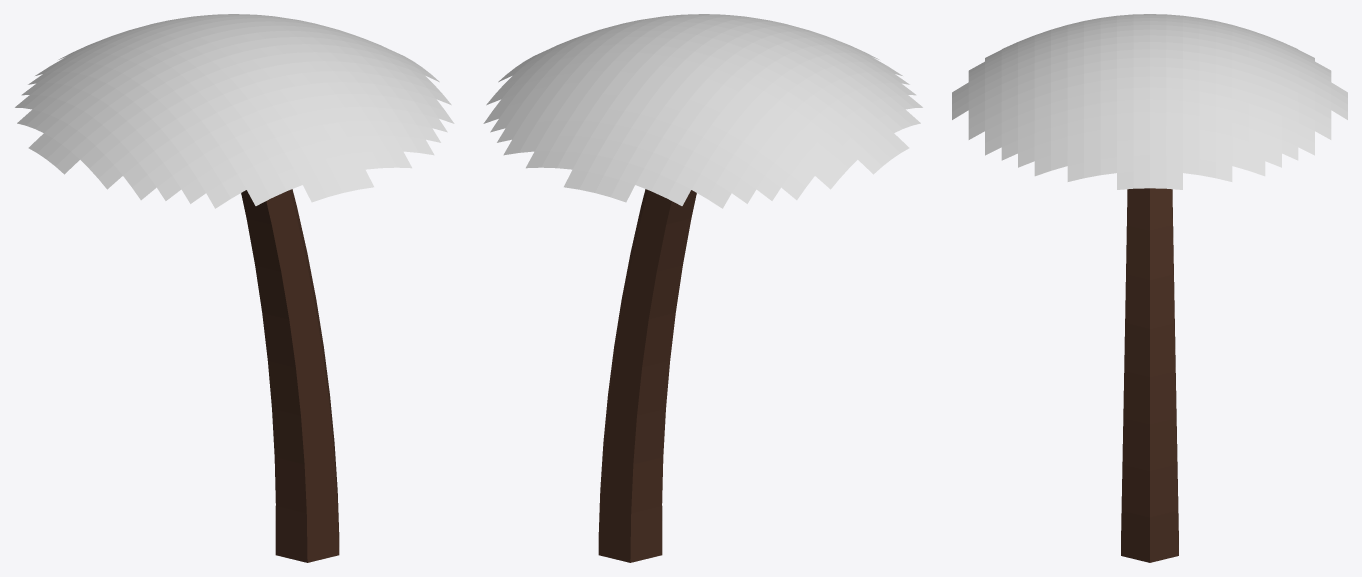
File: VerTree07.glb
The picture shows the model from 3 angles, left to right: view 1: azimuth 30°, elevation 25°; view 2: azimuth 150°, elevation 25°; view 3: azimuth 270°, elevation 25°; orthographic projection. The views are drawn at different scales.
Parts seen in each view (by area): view 1: VerTree07; view 2: VerTree07; view 3: VerTree07.
Part boxes in pixels (x1,y1,x2,y2): VerTree07: (15, 14, 454, 562); VerTree07: (483, 14, 922, 562); VerTree07: (952, 14, 1347, 562).
Bounding box in the file's own units: 5.31 × 7.02 × 5.31.
